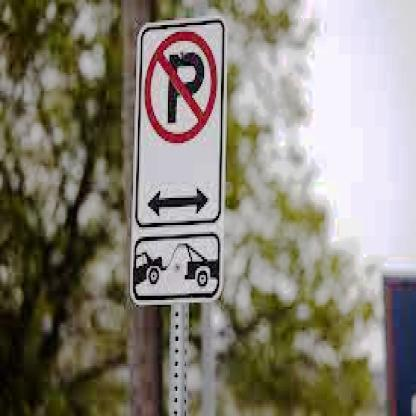No parking: (141, 28, 218, 143)
